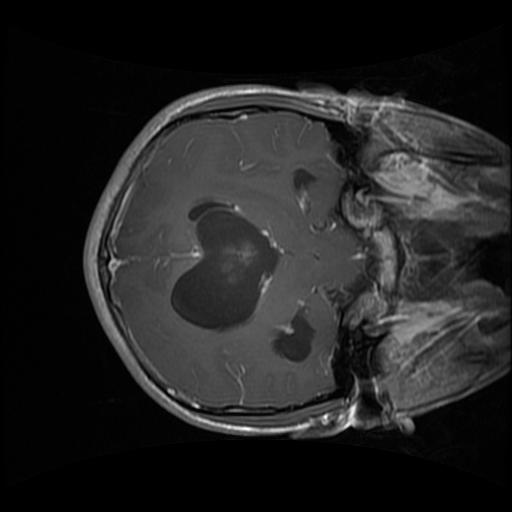glioma: (167, 197, 284, 334)
